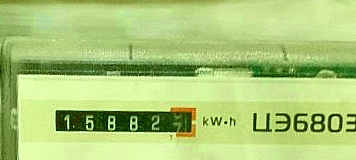1: (61, 111, 72, 130)
2: (149, 113, 161, 131)
5: (83, 113, 95, 131)
7: (171, 120, 182, 132)
8: (104, 113, 117, 130), (127, 113, 139, 131)
screen: (46, 98, 202, 144)
